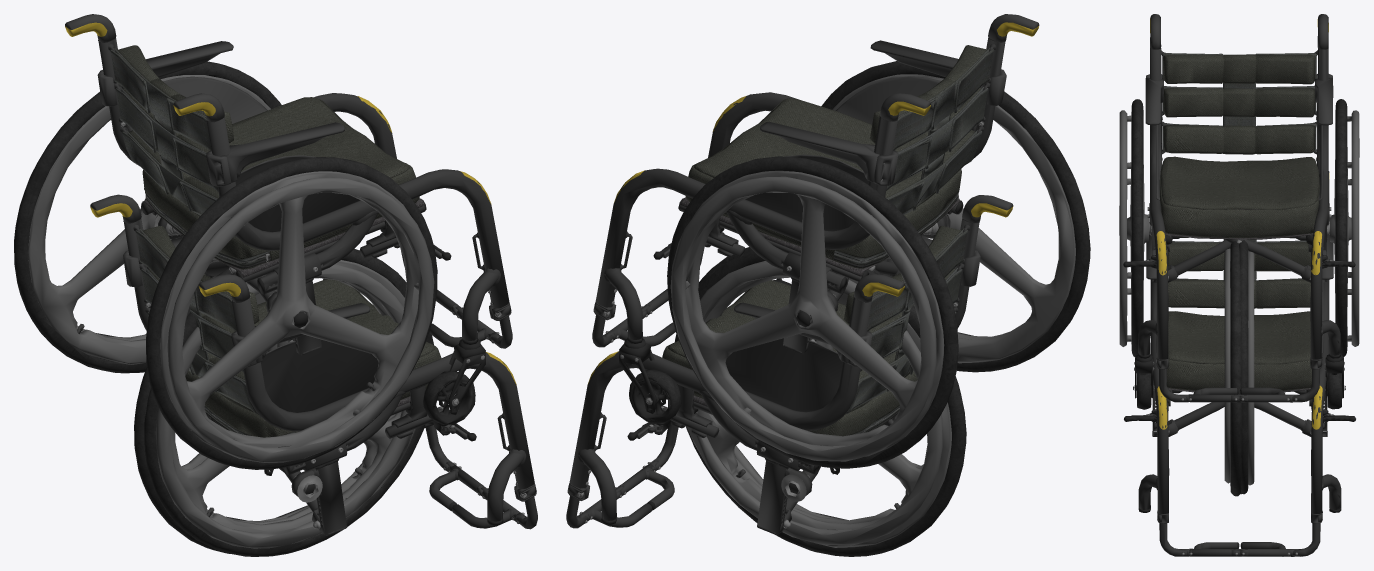
Rendered from wheelChair_c01.glb.
3 views of the same model, side by side, from view 1: azimuth 30°, elevation 25°; view 2: azimuth 150°, elevation 25°; view 3: azimuth 270°, elevation 25° (orthographic). The views are drawn at different scales.
Parts seen in each view (by area): view 1: chairseat_01_mesh_00 (×2), tireBig_02_mesh_00 (×2), tireBig_01_mesh_00 (×2), wheel_02_mesh_00, wheelBase_02_mesh_00; view 2: chairseat_01_mesh_00 (×2), tireBig_01_mesh_00 (×2), tireBig_02_mesh_00 (×2), wheel_01_mesh_00, wheelBase_01_mesh_00; view 3: chairseat_01_mesh_00 (×2), tireBig_01_mesh_00 (×2), tireBig_02_mesh_00 (×2), wheel_02_mesh_00, wheel_01_mesh_00, wheelBase_02_mesh_00, wheelBase_01_mesh_00.
Boxes of the visible parts, x1,y1,x2,y2 form: chairseat_01_mesh_00 (×2): (65,14,537,535); tireBig_02_mesh_00 (×2): (134,157,437,553); tireBig_01_mesh_00 (×2): (14,61,433,556); wheel_02_mesh_00: (423,371,475,424); wheelBase_02_mesh_00: (438,339,485,415); chairseat_01_mesh_00 (×2): (566,14,1039,535); tireBig_01_mesh_00 (×2): (667,156,958,547); tireBig_02_mesh_00 (×2): (677,61,1090,556); wheel_01_mesh_00: (629,369,681,423); wheelBase_01_mesh_00: (619,338,666,413); chairseat_01_mesh_00 (×2): (1123,14,1355,556); tireBig_01_mesh_00 (×2): (1230,99,1359,496); tireBig_02_mesh_00 (×2): (1119,99,1248,494); wheel_02_mesh_00: (1136,373,1151,409); wheel_01_mesh_00: (1327,373,1341,409); wheelBase_02_mesh_00: (1133,354,1154,398); wheelBase_01_mesh_00: (1324,354,1345,398).
Bounding box in the file's own units: 0.8325 × 1.03 × 0.5424.
Materials: 26 (13 with a texture image).
